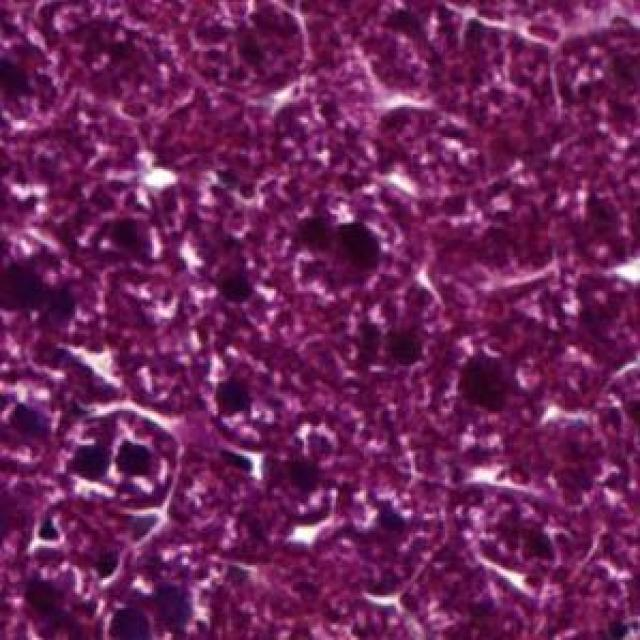inflammation: (58, 419, 186, 501), (280, 486, 402, 556)
